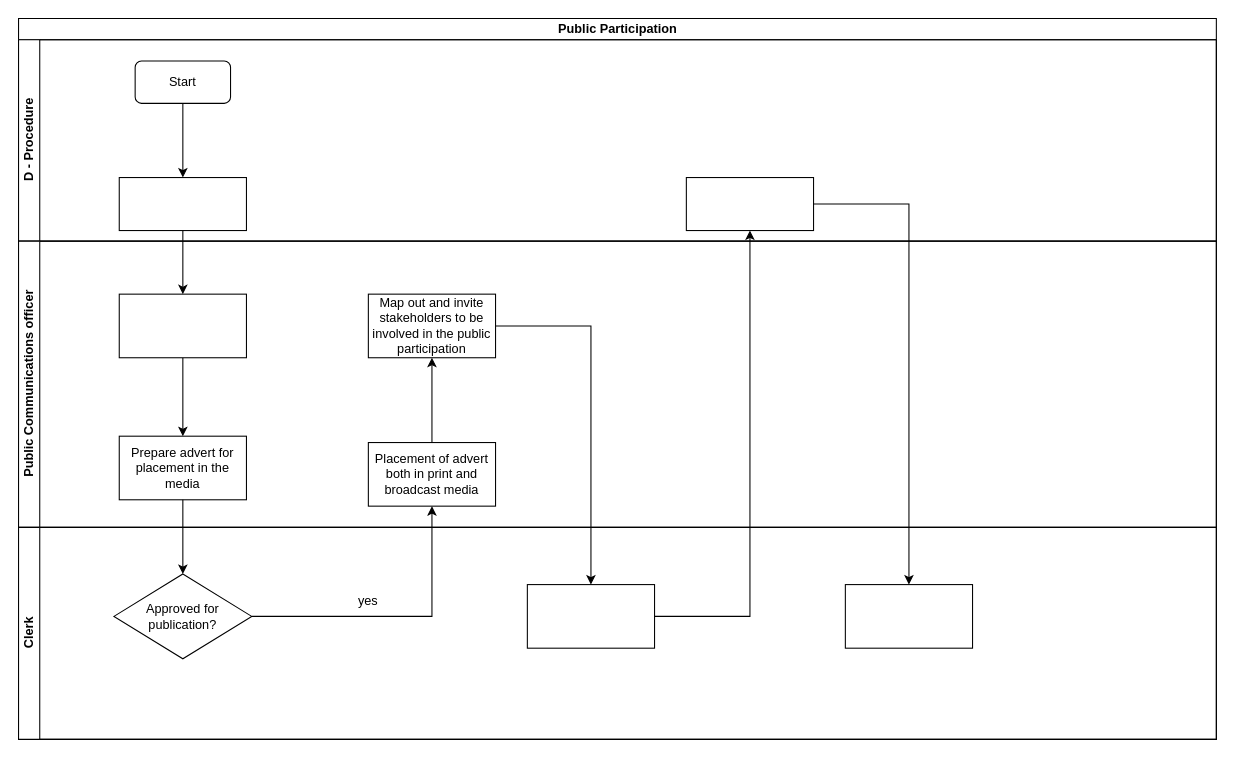
Image size: 1235x758. Some labels were removed from this diagram. Each missing label, with the centre of its shape:
Notification of a slated public participation: point 182,203
Participation in the public participation forum: point 749,203
Secure suitable venues either at the Ward or Sub-County level: point 182,325
Signing of the invitation letters: point 590,616
Submission of public views: point 908,616
